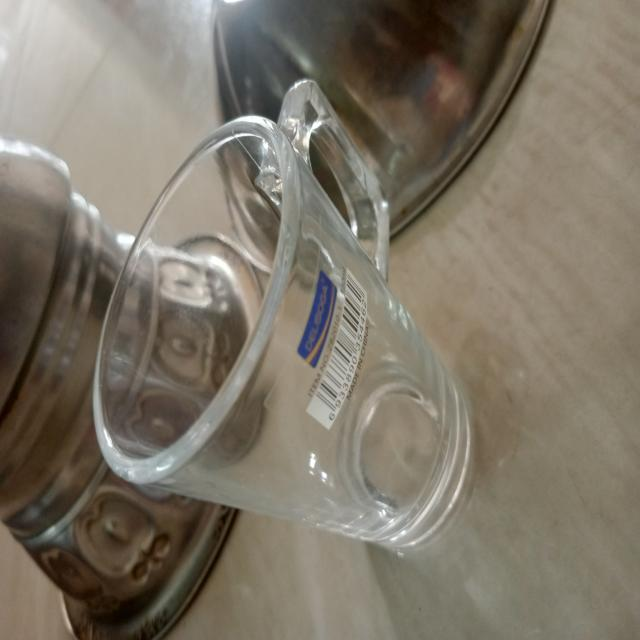glass-VX4N: (92, 81, 475, 561)
